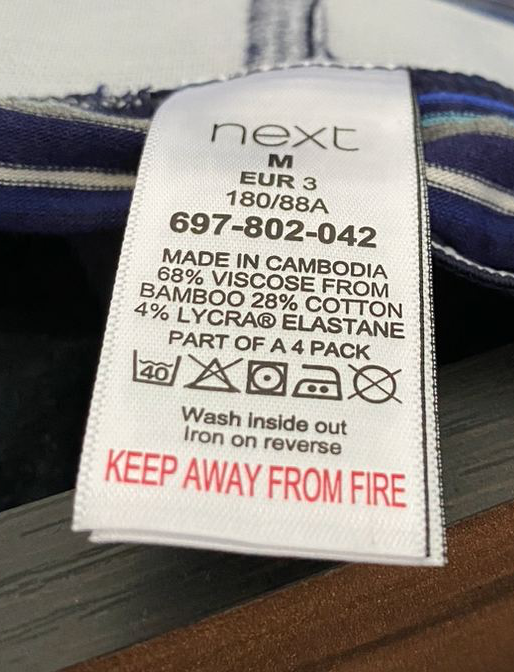do_not_bleach: (184, 354, 247, 394)
do_not_dry_clean: (346, 358, 409, 403)
ironing_at_med_temp: (293, 362, 344, 398)
tumble_drying_low_temps: (242, 358, 290, 398)
wash_at_or_below_40: (128, 348, 184, 388)
